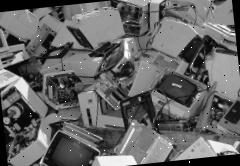electronic: (139, 61, 216, 129), (25, 115, 115, 166), (82, 32, 148, 98), (146, 9, 208, 70), (55, 5, 134, 52), (30, 62, 90, 118), (0, 21, 27, 66)
